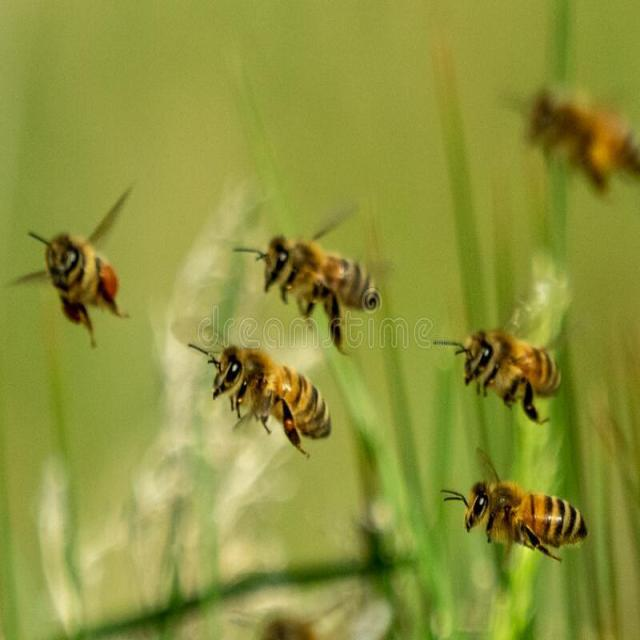honeybee: (530, 74, 640, 214), (255, 243, 391, 348), (210, 345, 340, 453), (456, 478, 582, 566), (454, 322, 565, 416), (30, 225, 123, 337)
